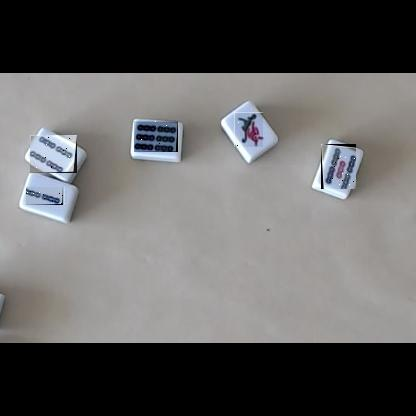1s: (234, 112, 263, 147)
2s: (27, 187, 68, 205)
4s: (30, 135, 77, 173)
5s: (321, 144, 356, 189)
6s: (134, 121, 178, 152)
